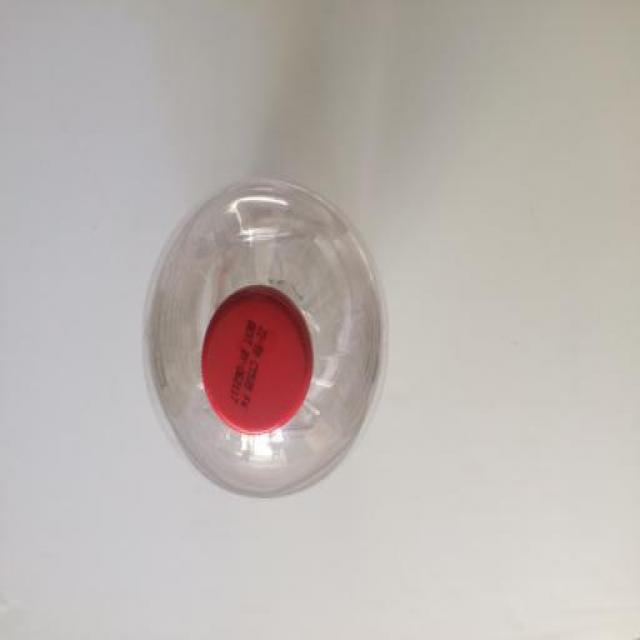plastic_bottle: (127, 169, 419, 501)
